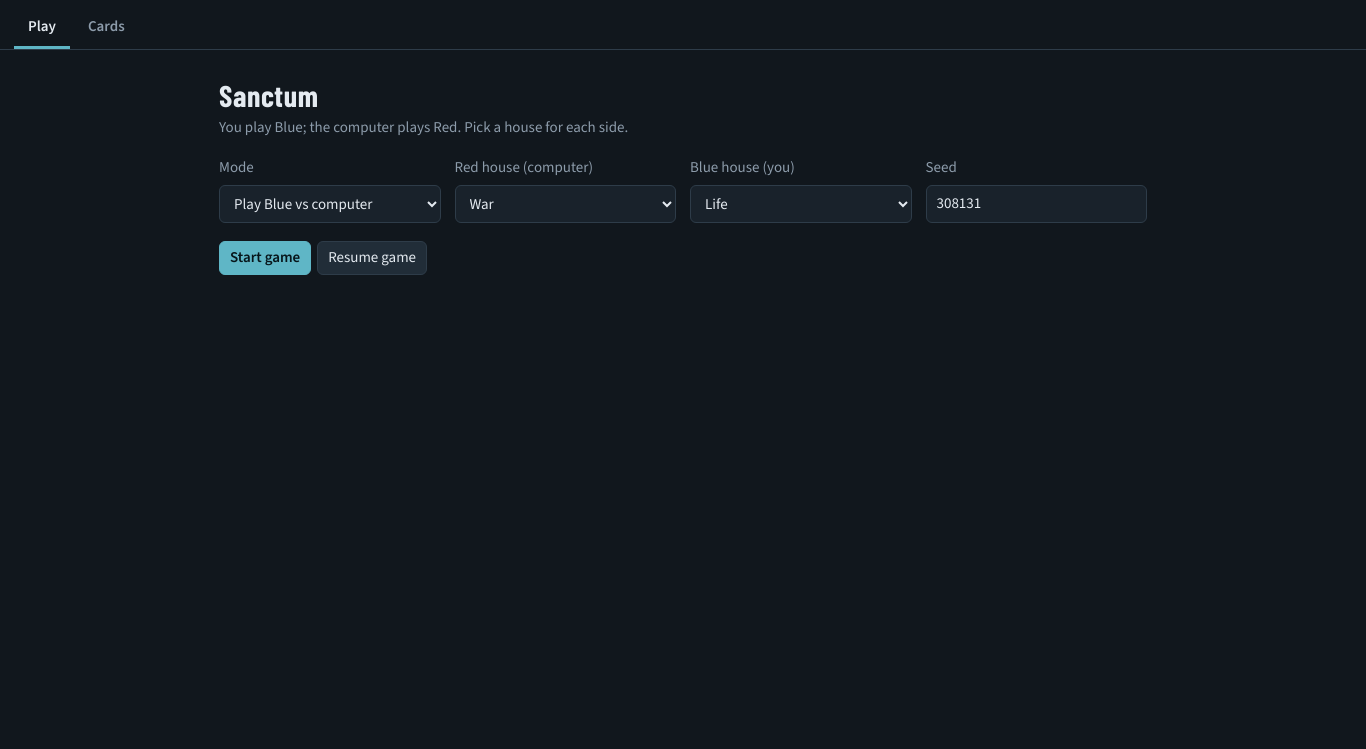
Test: app flow › switches to the card browser and back
Click the button "Cards".
click(106, 28)  # box [74,8,139,49]
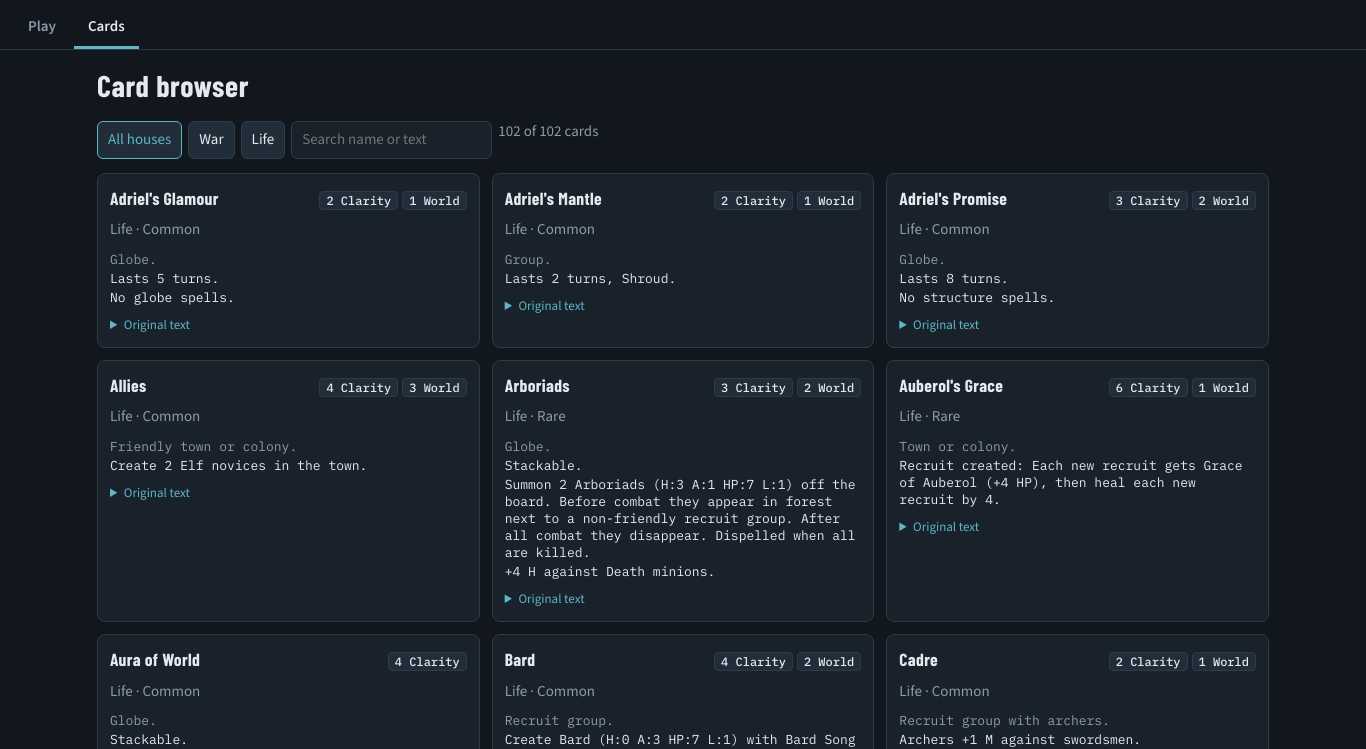
expect the heading "Card browser" is shown: met, box [97,67,249,103]
Click the button "Play".
click(42, 28)  # box [14,8,70,49]
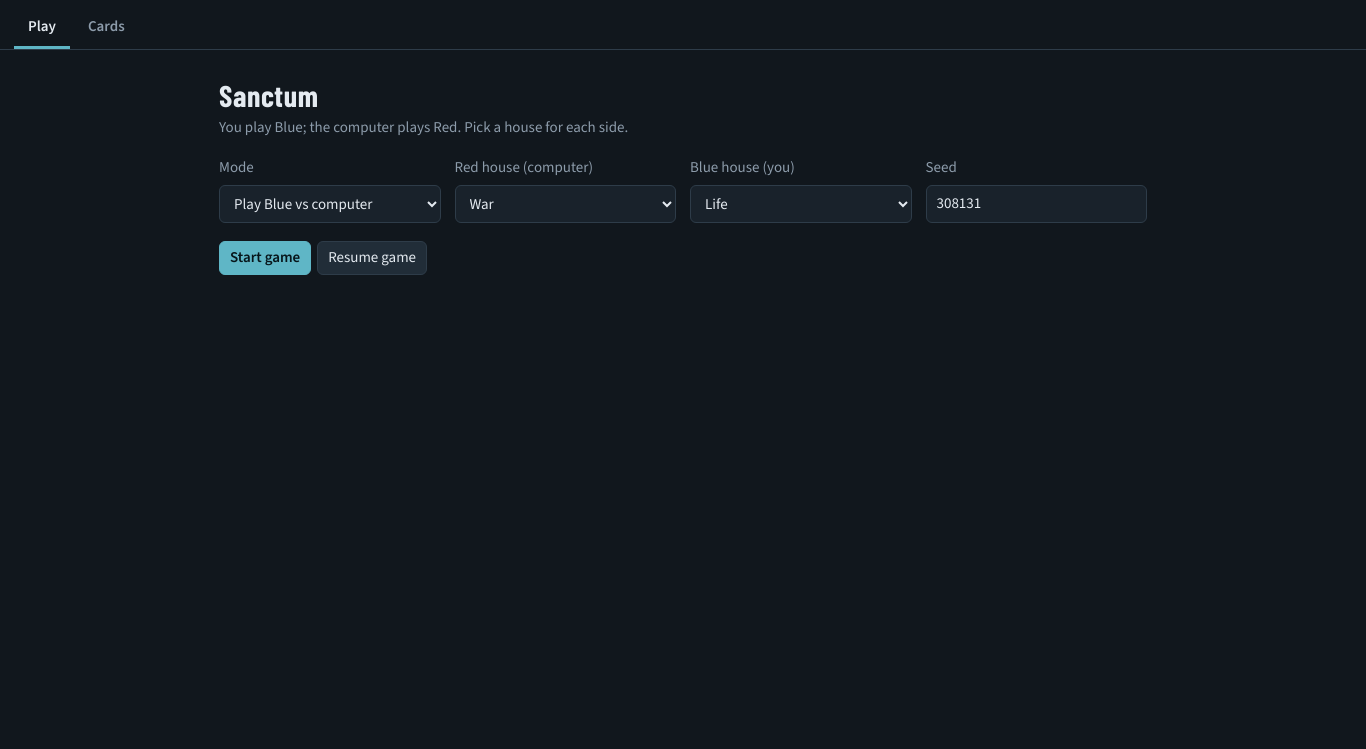
expect the button "Start game" is shown: met, box [219,241,311,275]
